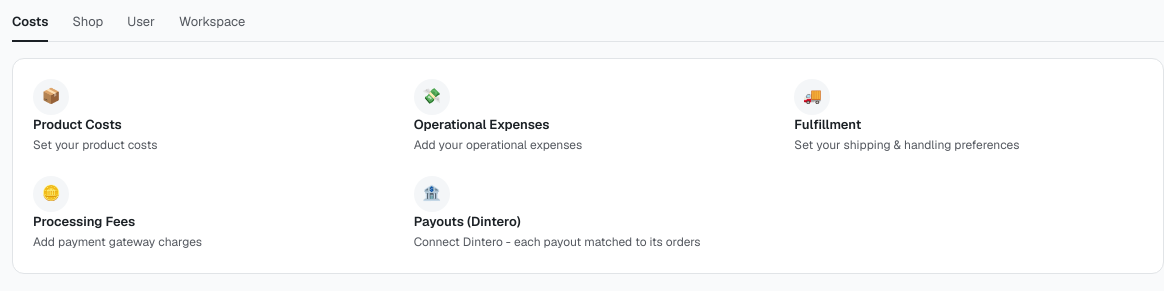
Test case: SettingsTabs › switches tabs: Shop shows the per-webshop settings
Click the tab "Shop".
click(88, 27)  # box 72,12 -> 103,42
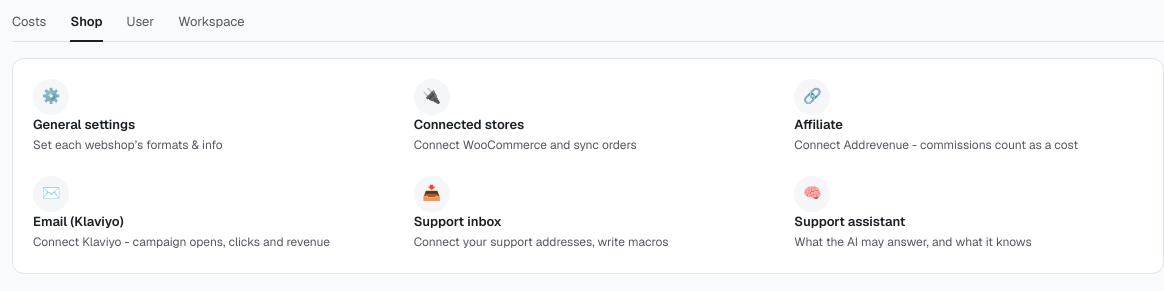
Now the link "Product Costs" is gone
